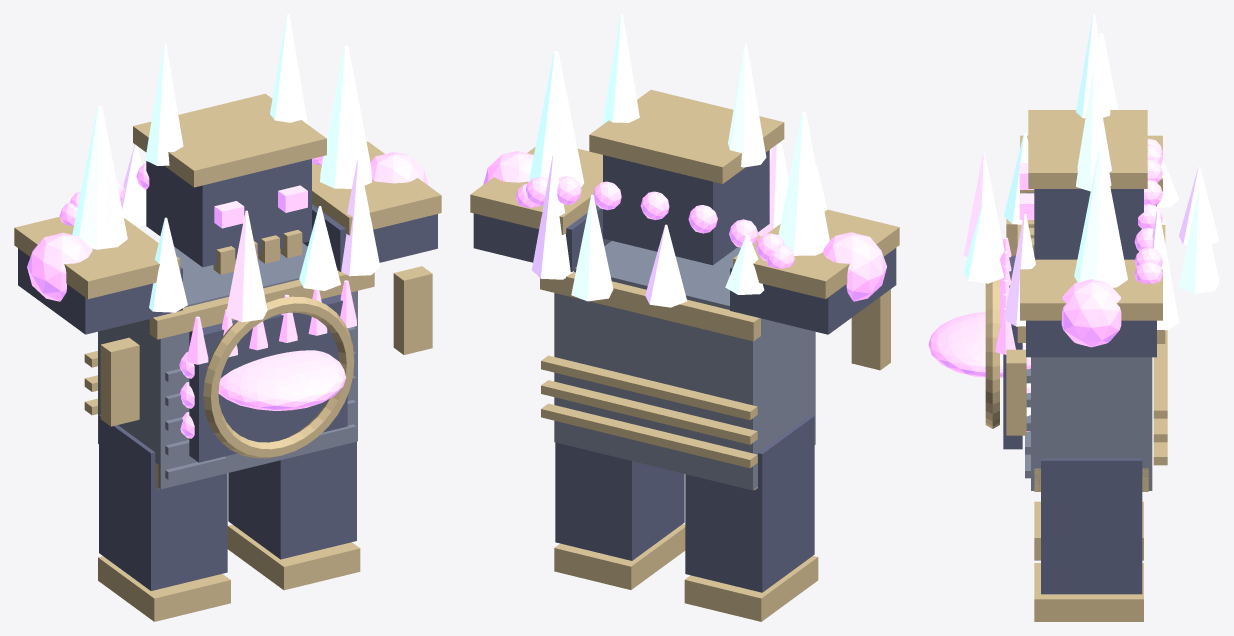
Rendered from CrystalWarden_Ornate_Mobile.glb.
3 renders of one model, left to right at view 1: azimuth 30°, elevation 25°; view 2: azimuth 150°, elevation 25°; view 3: azimuth 270°, elevation 25°, orthographic. The views are drawn at different scales.
Visible parts, largest first — view 1: CrystalWarden_Ornate_Mobile.glb_shadow, CrystalWarden_Ornate_Mobile.glb_gold, CrystalWarden_Ornate_Mobile.glb_ice, CrystalWarden_Ornate_Mobile.glb_purple, CrystalWarden_Ornate_Mobile.glb_slate, CrystalWarden_Ornate_Mobile.glb_amethyst; view 2: CrystalWarden_Ornate_Mobile.glb_shadow, CrystalWarden_Ornate_Mobile.glb_gold, CrystalWarden_Ornate_Mobile.glb_slate, CrystalWarden_Ornate_Mobile.glb_ice, CrystalWarden_Ornate_Mobile.glb_purple, CrystalWarden_Ornate_Mobile.glb_amethyst; view 3: CrystalWarden_Ornate_Mobile.glb_shadow, CrystalWarden_Ornate_Mobile.glb_gold, CrystalWarden_Ornate_Mobile.glb_ice, CrystalWarden_Ornate_Mobile.glb_slate, CrystalWarden_Ornate_Mobile.glb_purple, CrystalWarden_Ornate_Mobile.glb_amethyst.
Boxes of the visible parts, <box> form: CrystalWarden_Ornate_Mobile.glb_shadow: <box>18,159,437,590</box>; CrystalWarden_Ornate_Mobile.glb_gold: <box>14,93,441,621</box>; CrystalWarden_Ornate_Mobile.glb_ice: <box>72,14,371,312</box>; CrystalWarden_Ornate_Mobile.glb_purple: <box>27,152,428,438</box>; CrystalWarden_Ornate_Mobile.glb_slate: <box>98,243,357,489</box>; CrystalWarden_Ornate_Mobile.glb_amethyst: <box>120,144,380,322</box>; CrystalWarden_Ornate_Mobile.glb_shadow: <box>473,150,896,592</box>; CrystalWarden_Ornate_Mobile.glb_gold: <box>470,89,899,621</box>; CrystalWarden_Ornate_Mobile.glb_slate: <box>554,241,815,490</box>; CrystalWarden_Ornate_Mobile.glb_ice: <box>529,14,829,301</box>; CrystalWarden_Ornate_Mobile.glb_purple: <box>483,151,886,301</box>; CrystalWarden_Ornate_Mobile.glb_amethyst: <box>532,141,788,307</box>; CrystalWarden_Ornate_Mobile.glb_shadow: <box>1003,189,1156,594</box>; CrystalWarden_Ornate_Mobile.glb_gold: <box>985,110,1167,621</box>; CrystalWarden_Ornate_Mobile.glb_ice: <box>963,14,1219,293</box>; CrystalWarden_Ornate_Mobile.glb_slate: <box>1025,357,1152,490</box>; CrystalWarden_Ornate_Mobile.glb_purple: <box>928,138,1162,431</box>; CrystalWarden_Ornate_Mobile.glb_amethyst: <box>963,153,1219,330</box>.
Size of the model in its own units: 3.7 by 4.91 by 2.44.
